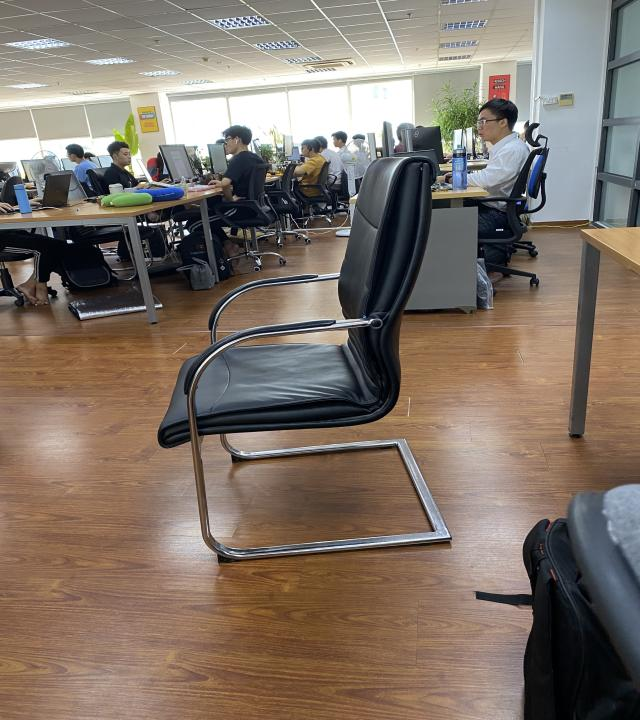SS_03: (156, 154, 454, 566)
